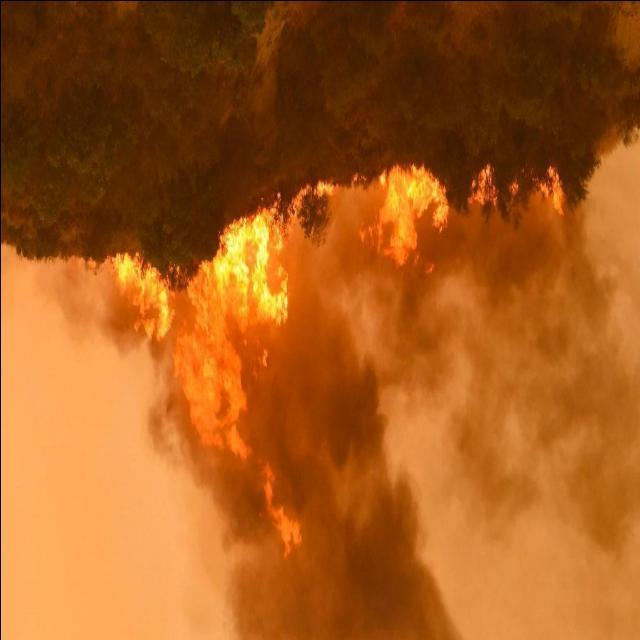Fire: (109, 161, 551, 559)
